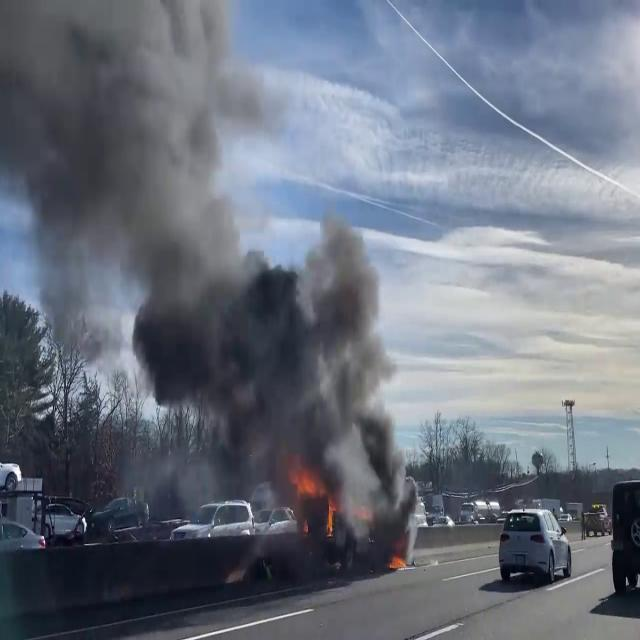Fire: (324, 493, 340, 540), (388, 546, 410, 573)
Smoke: (0, 1, 415, 532)
